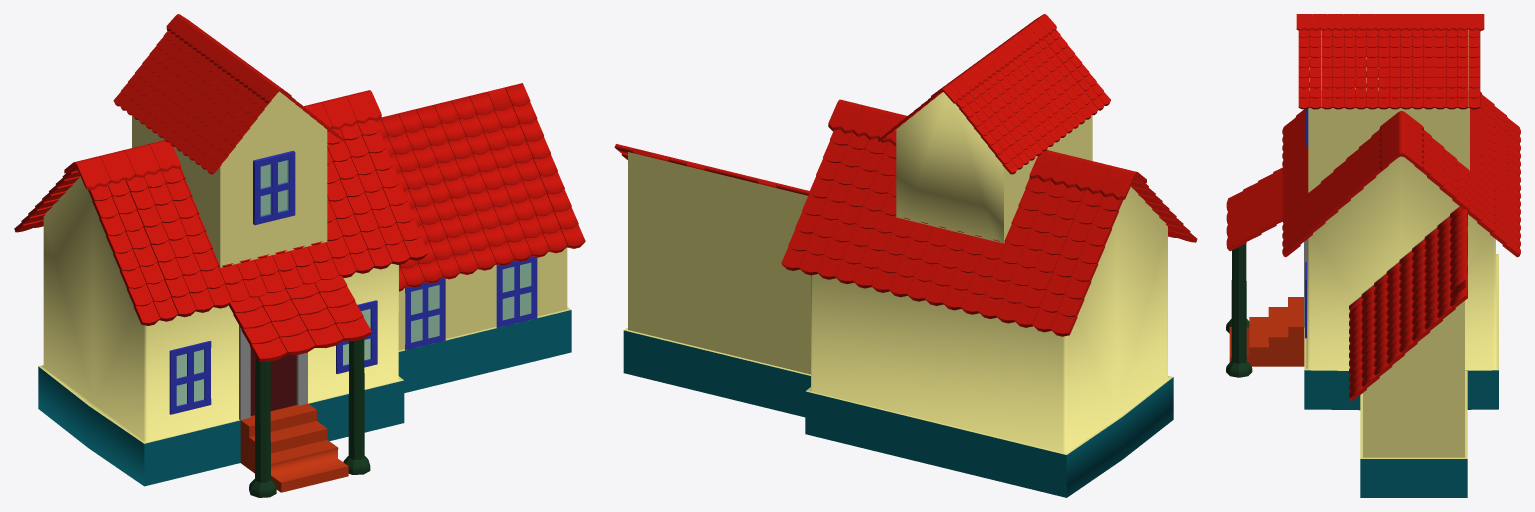
File: house_2.FBX
3 views of the same model, side by side, from view 1: azimuth 30°, elevation 25°; view 2: azimuth 150°, elevation 25°; view 3: azimuth 270°, elevation 25° (orthographic). The views are drawn at different scales.
Parts seen in each view (by area): view 1: Group001, pCube58, pCube60, pCube59, polySurface446, polySurface451, pCube66, polySurface459, polySurface464, polySurface458, pCylinder1, pCylinder2; view 2: Group001, pCube58, pCube60, pCube59; view 3: Group001, pCube59, pCube58, pCube60, pCube66, polySurface446, pCylinder2.
Part boxes in pixels (x1,y1,x2,y2): Group001: (38,83,585,486); pCube58: (14,90,427,325); pCube60: (398,247,571,392); pCube59: (113,14,345,174); polySurface446: (228,275,371,361); polySurface451: (336,256,537,373); pCube66: (239,403,348,492); polySurface459: (239,325,307,419); polySurface464: (253,150,295,225); polySurface458: (169,341,211,414); pCylinder1: (249,356,276,497); pCylinder2: (343,339,370,474); Group001: (614,92,1173,497); pCube58: (781,99,1197,336); pCube60: (624,152,810,375); pCube59: (878,14,1110,174); Group001: (1304,30,1498,410); pCube59: (1296,14,1484,109); pCube58: (1282,92,1520,257); pCube60: (1360,301,1467,497); pCube66: (1229,297,1304,366); polySurface446: (1226,167,1283,251); pCylinder2: (1226,244,1252,377).
Size of the model in its own units: 27.03 by 19.72 by 15.6.
